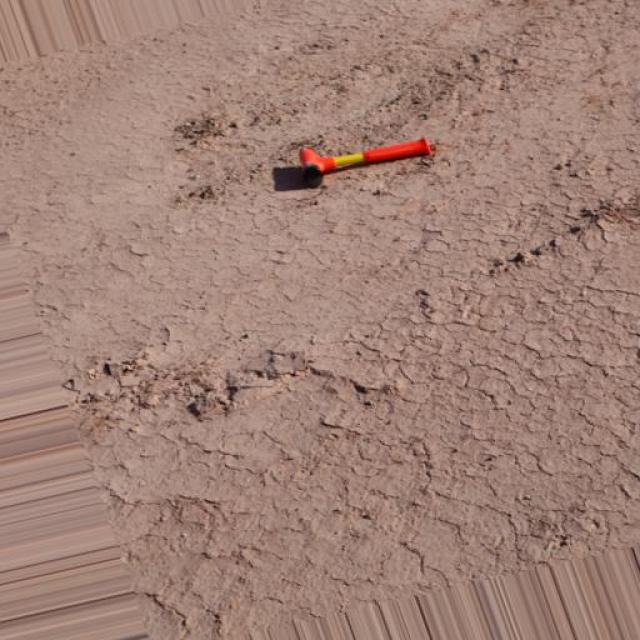mallet: (297, 135, 433, 181)
